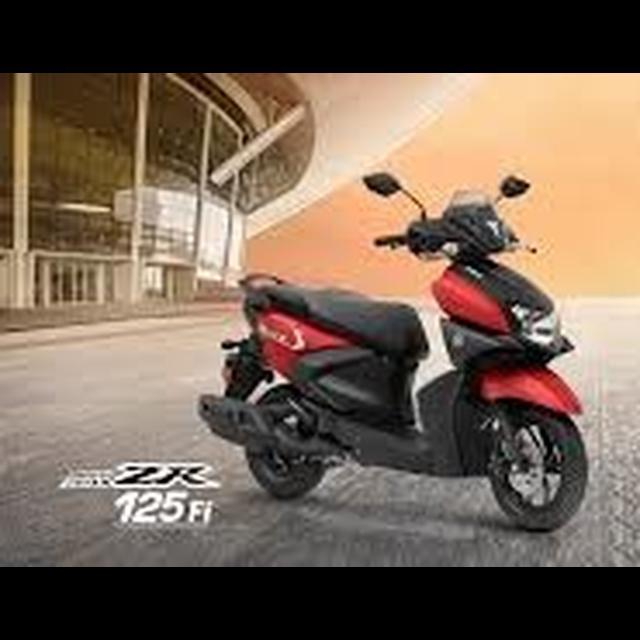motorcycle: (197, 165, 595, 535)
